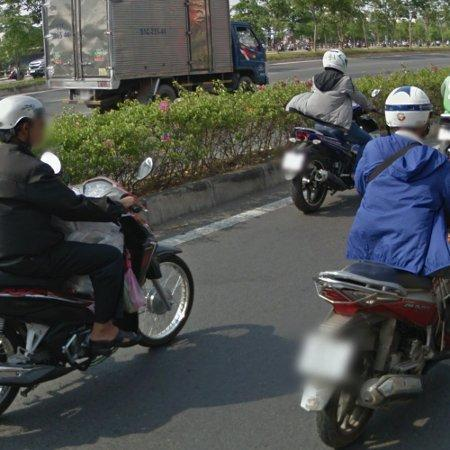motorcycles: (298, 263, 450, 450), (63, 205, 193, 346), (0, 271, 117, 414), (282, 126, 358, 213), (72, 177, 132, 201), (356, 103, 379, 133)
